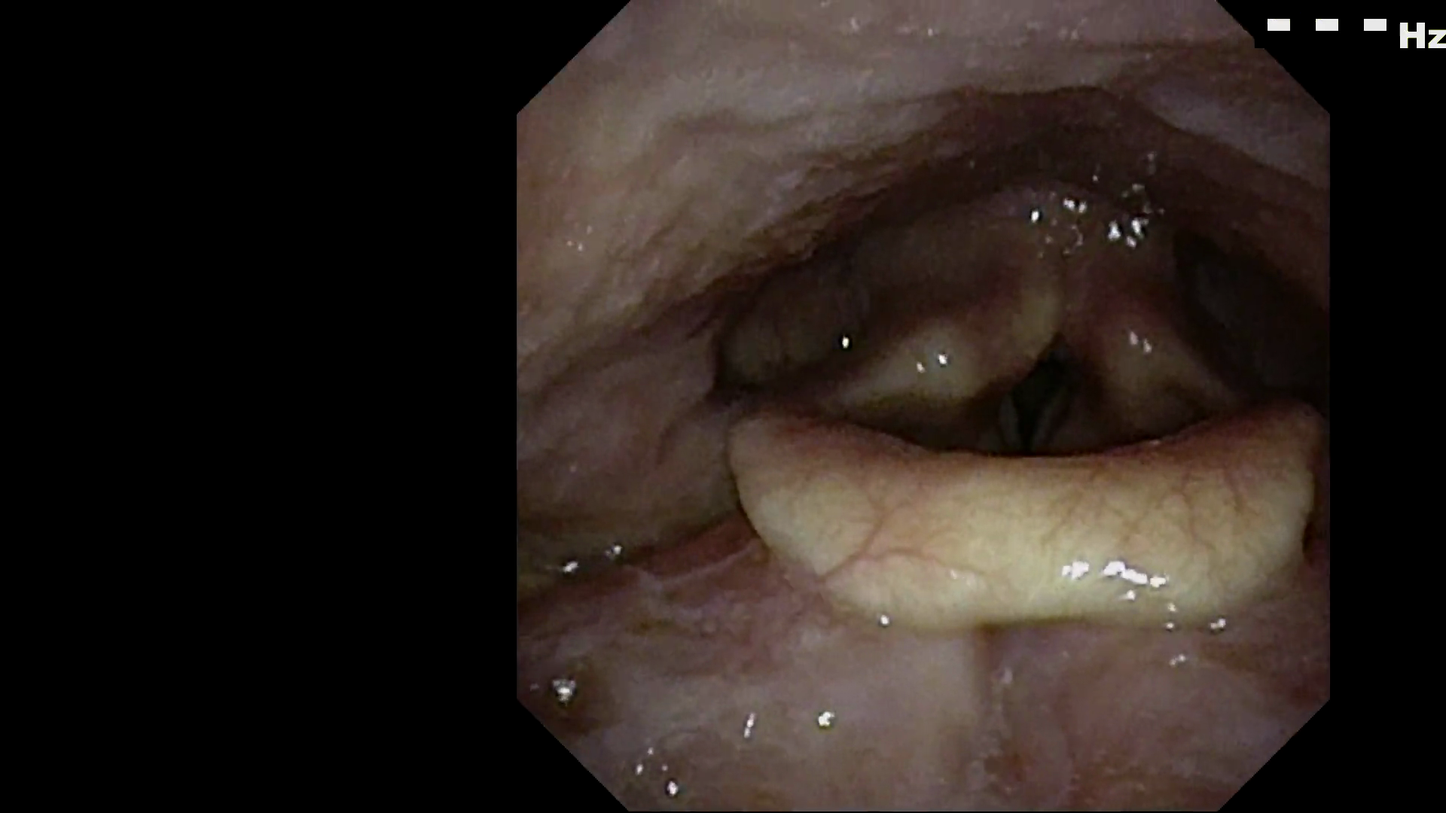epiglottis: (703, 376, 1325, 636)
trachea: (972, 323, 1108, 483)
